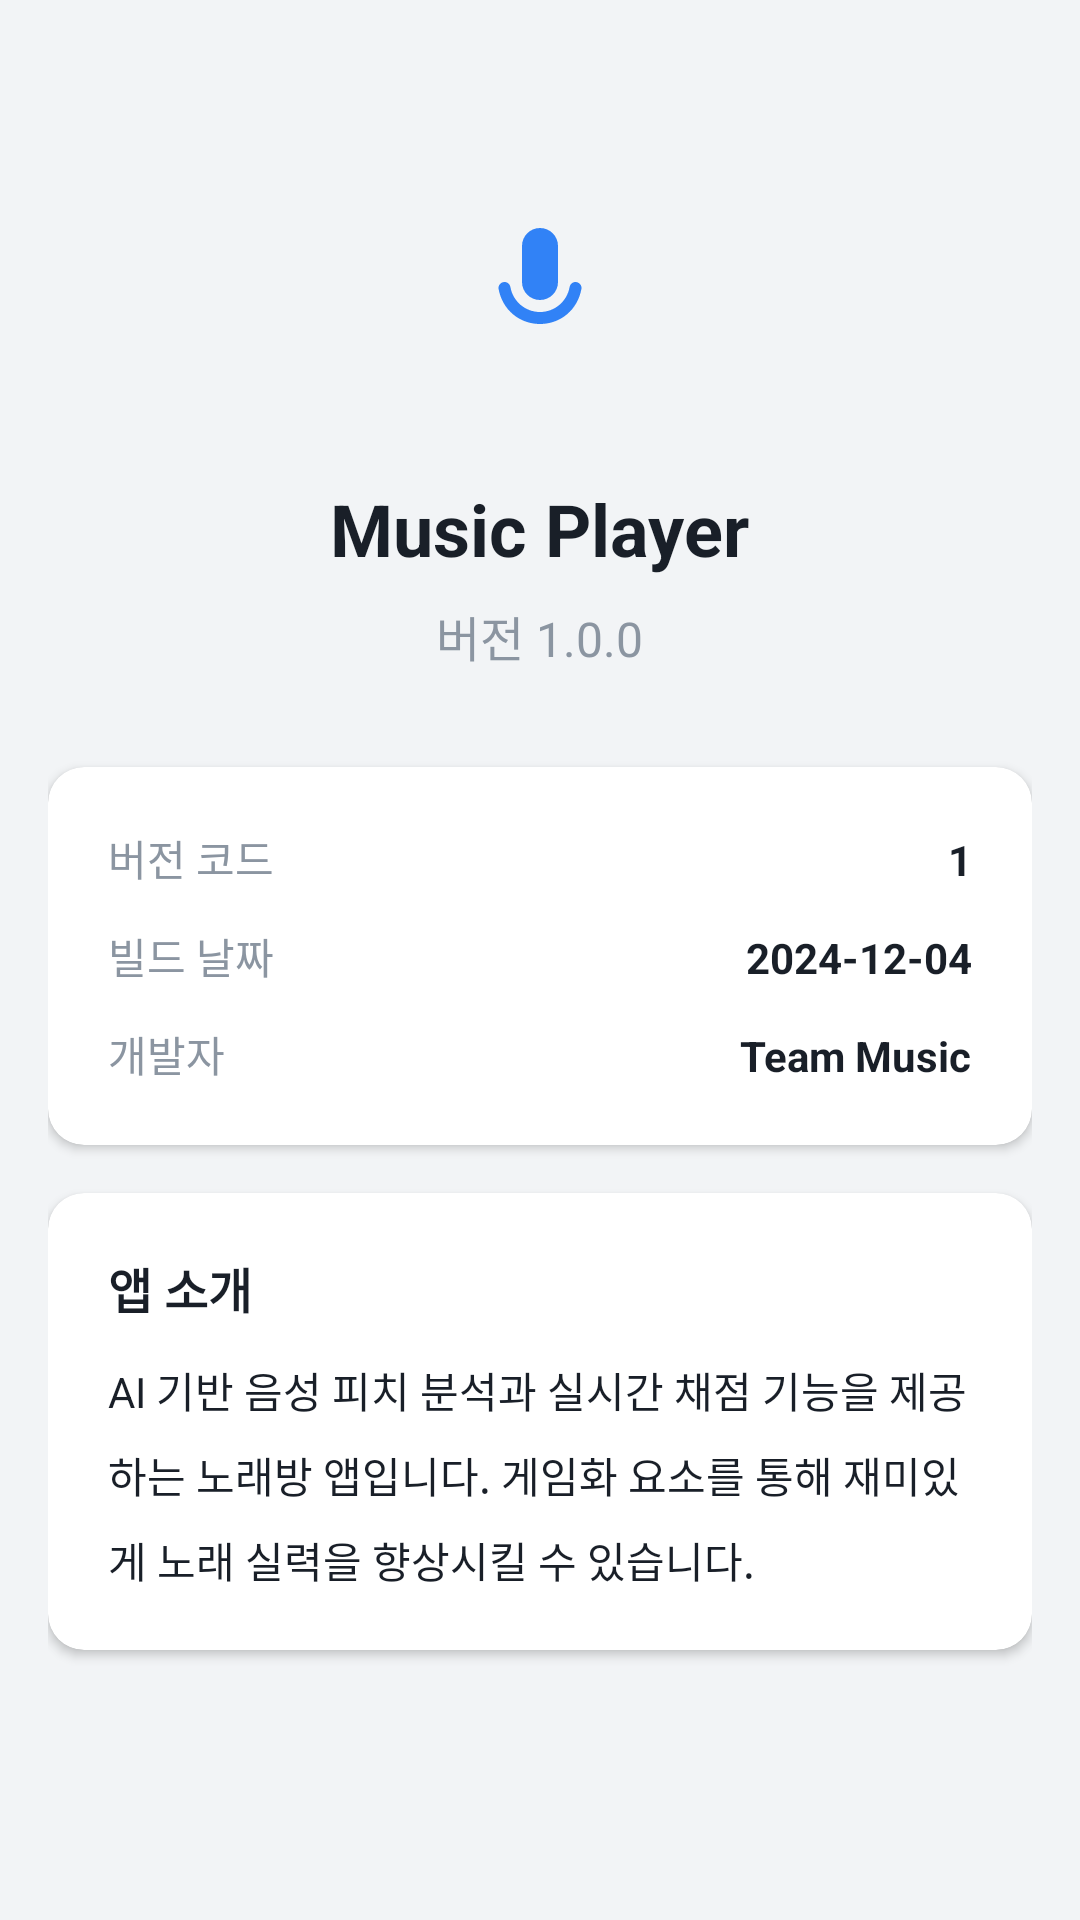

Icons on this 1080×1920 Android screen, each with the point to tap as (x,y):
mic: (540,276)
